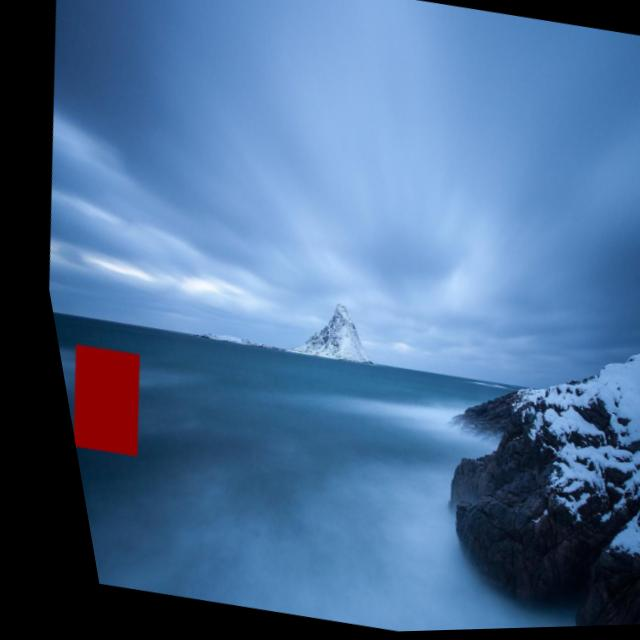RedSquare: (45, 333, 147, 467)
